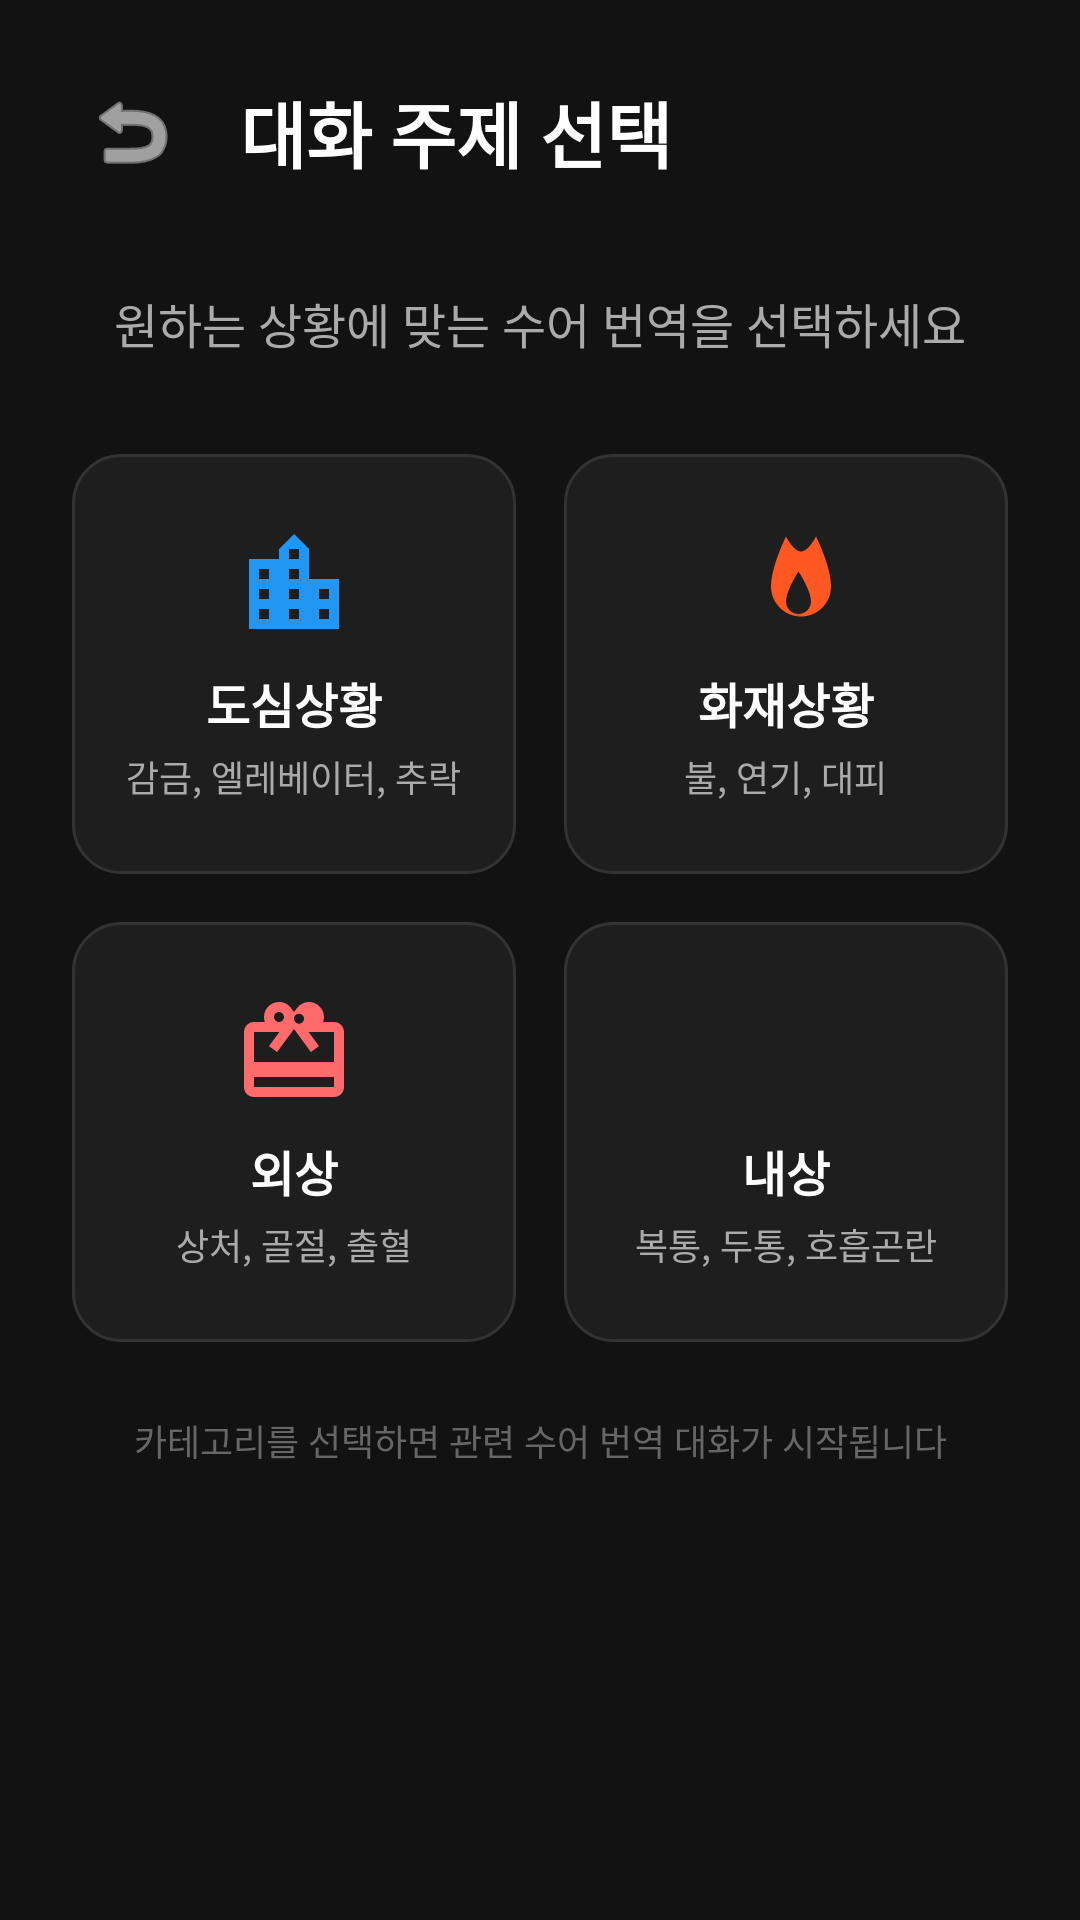

Icon bounding boxes for this 1080w x 1920h phone screenshot, format (x1, y1, x2, y2):
Back: (99, 101, 168, 164)
city: (249, 534, 339, 629)
fire: (771, 537, 831, 617)
